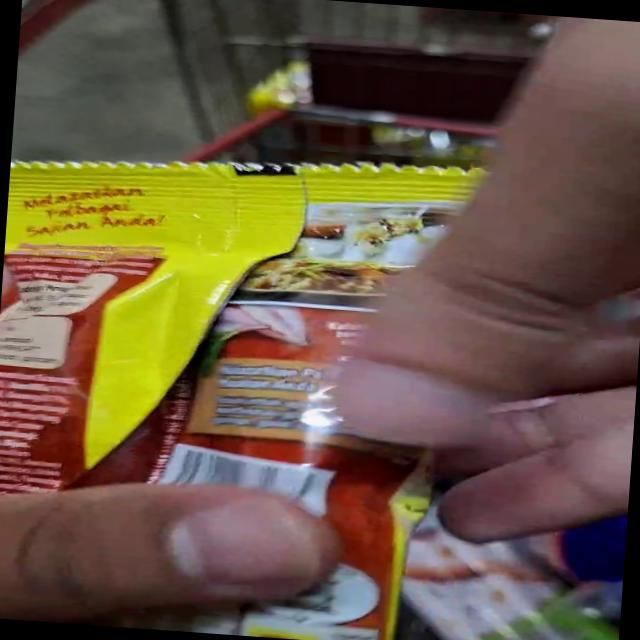Maggi Cukup Rasa: (0, 326, 442, 640), (0, 137, 502, 378)
